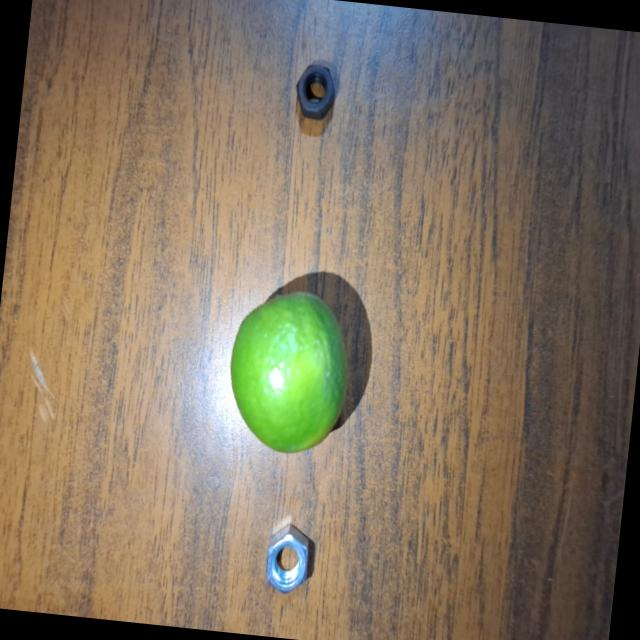limon: (219, 278, 362, 461)
milimetrico: (289, 59, 339, 124)
tuerca: (256, 520, 316, 602)
